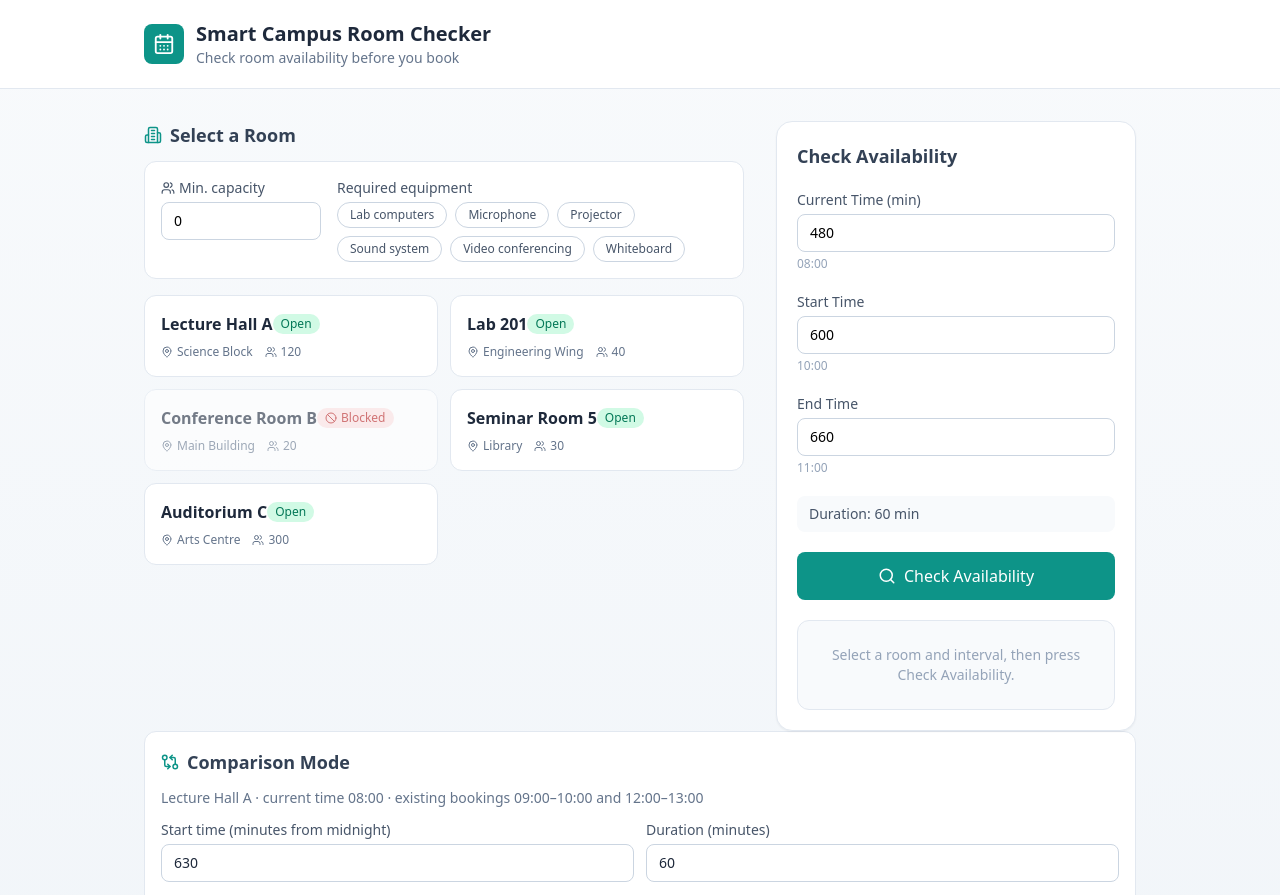
Test case: ExplainSection through App › explains an invalid-interval rejection through the UI
The width and height of the screenshot is (1280, 895).
Click the button "Lecture Hall A Open Science Block 120". click: (291, 336)
box: [144,295,438,377]
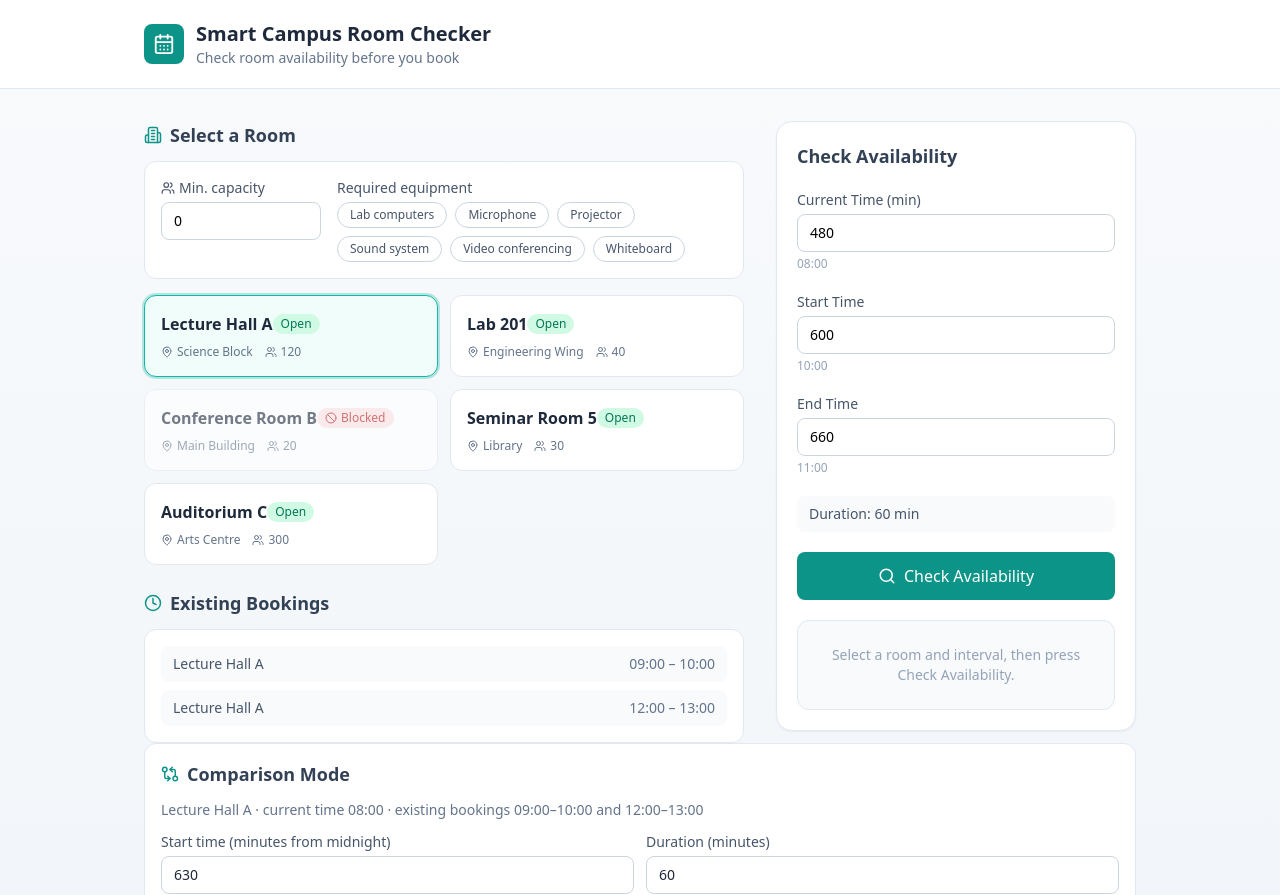
// Start time 1500 (past end-of-day 1440)
Replace the text in the number field below "Current Time (min)" with "1500". click: (956, 233)
box: [797,214,1115,252]
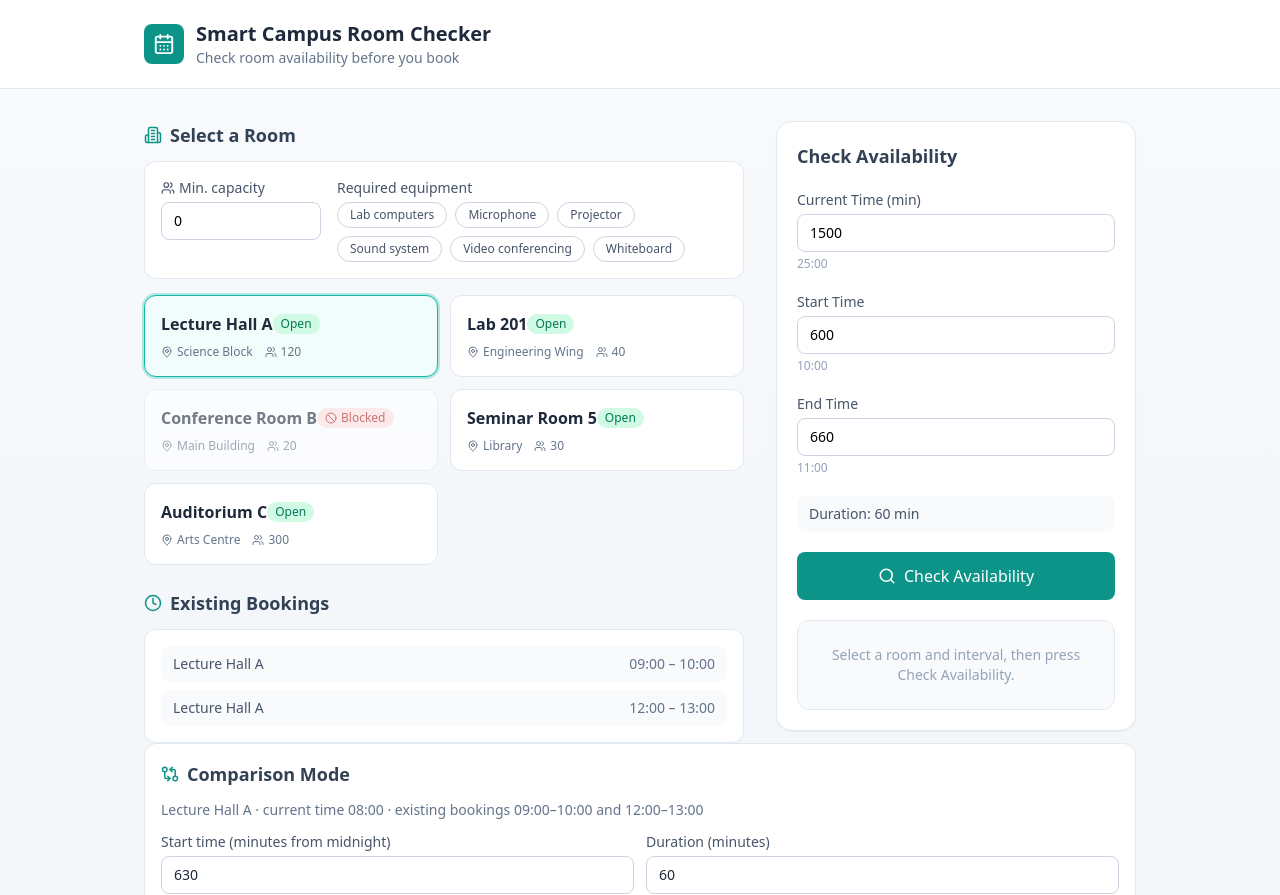
Click the button "Check Availability". click: (956, 576)
box: [797,552,1115,600]
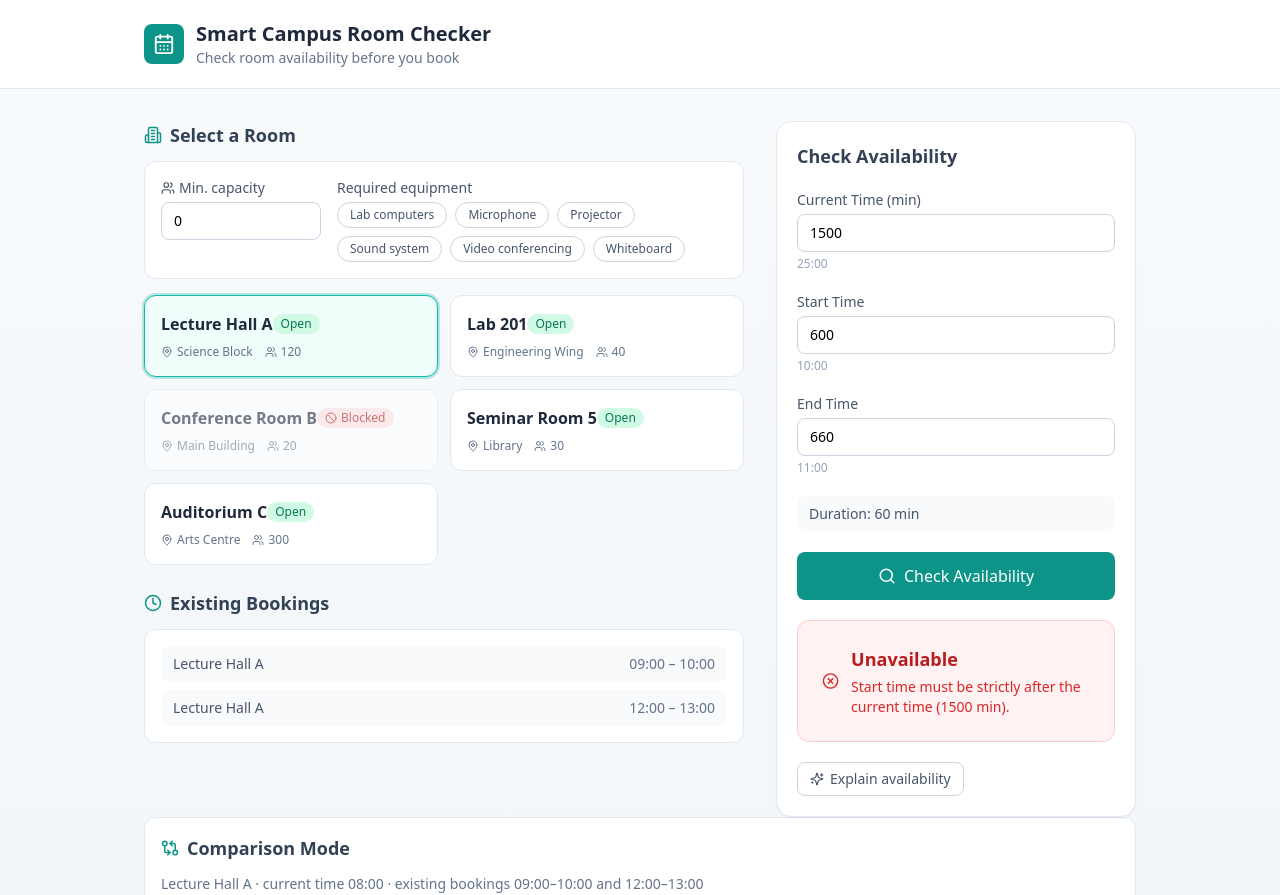
Expected: the text "Unavailable" is shown, [851,647,958,671]
Click the button "Explain availability". click: (880, 779)
box: [797,762,964,796]
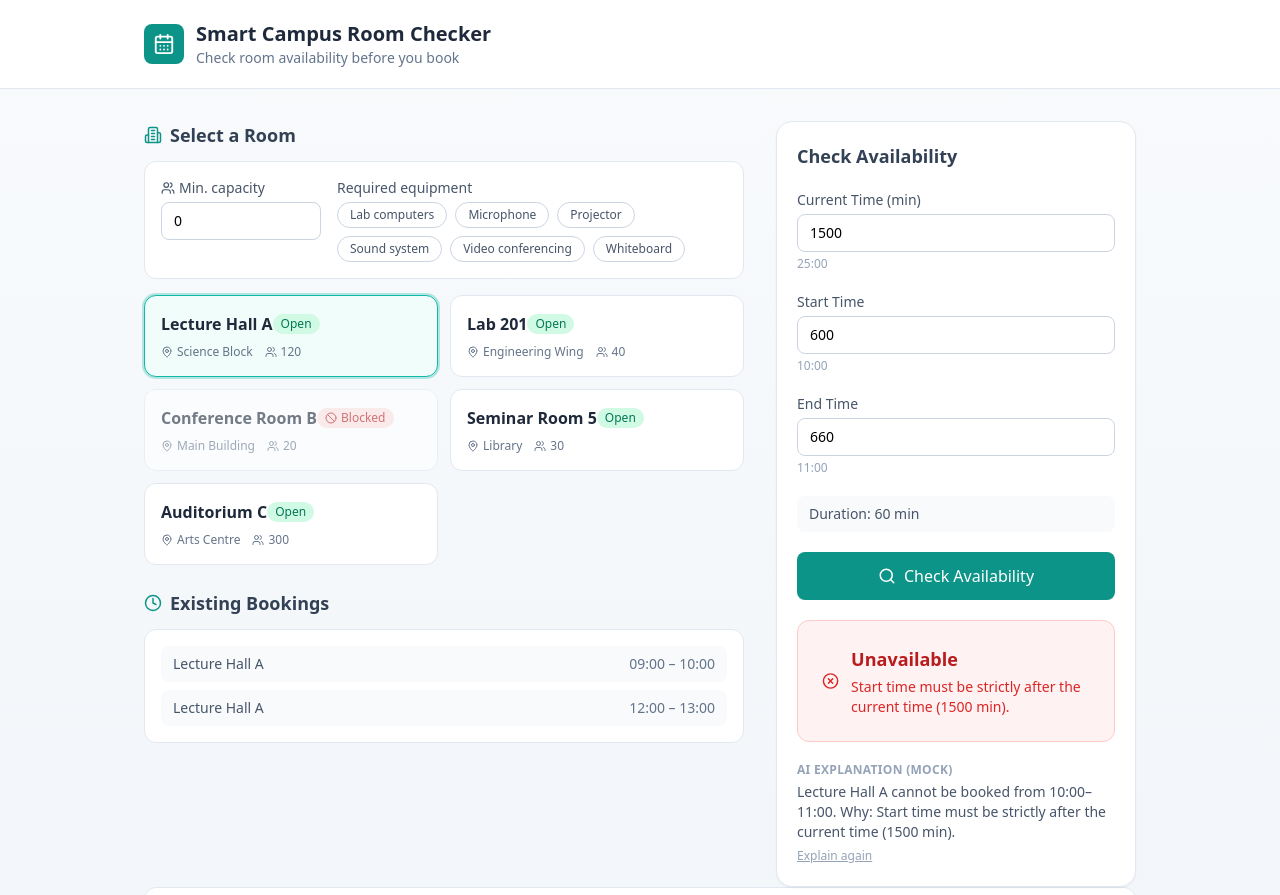
Expected: the text "AI explanation (mock)" is shown, [797,761,952,778]
Expected: the text "Lecture Hall A cannot be booked" shows "Start time must be strictly after the current time", [797,782,1106,841]
